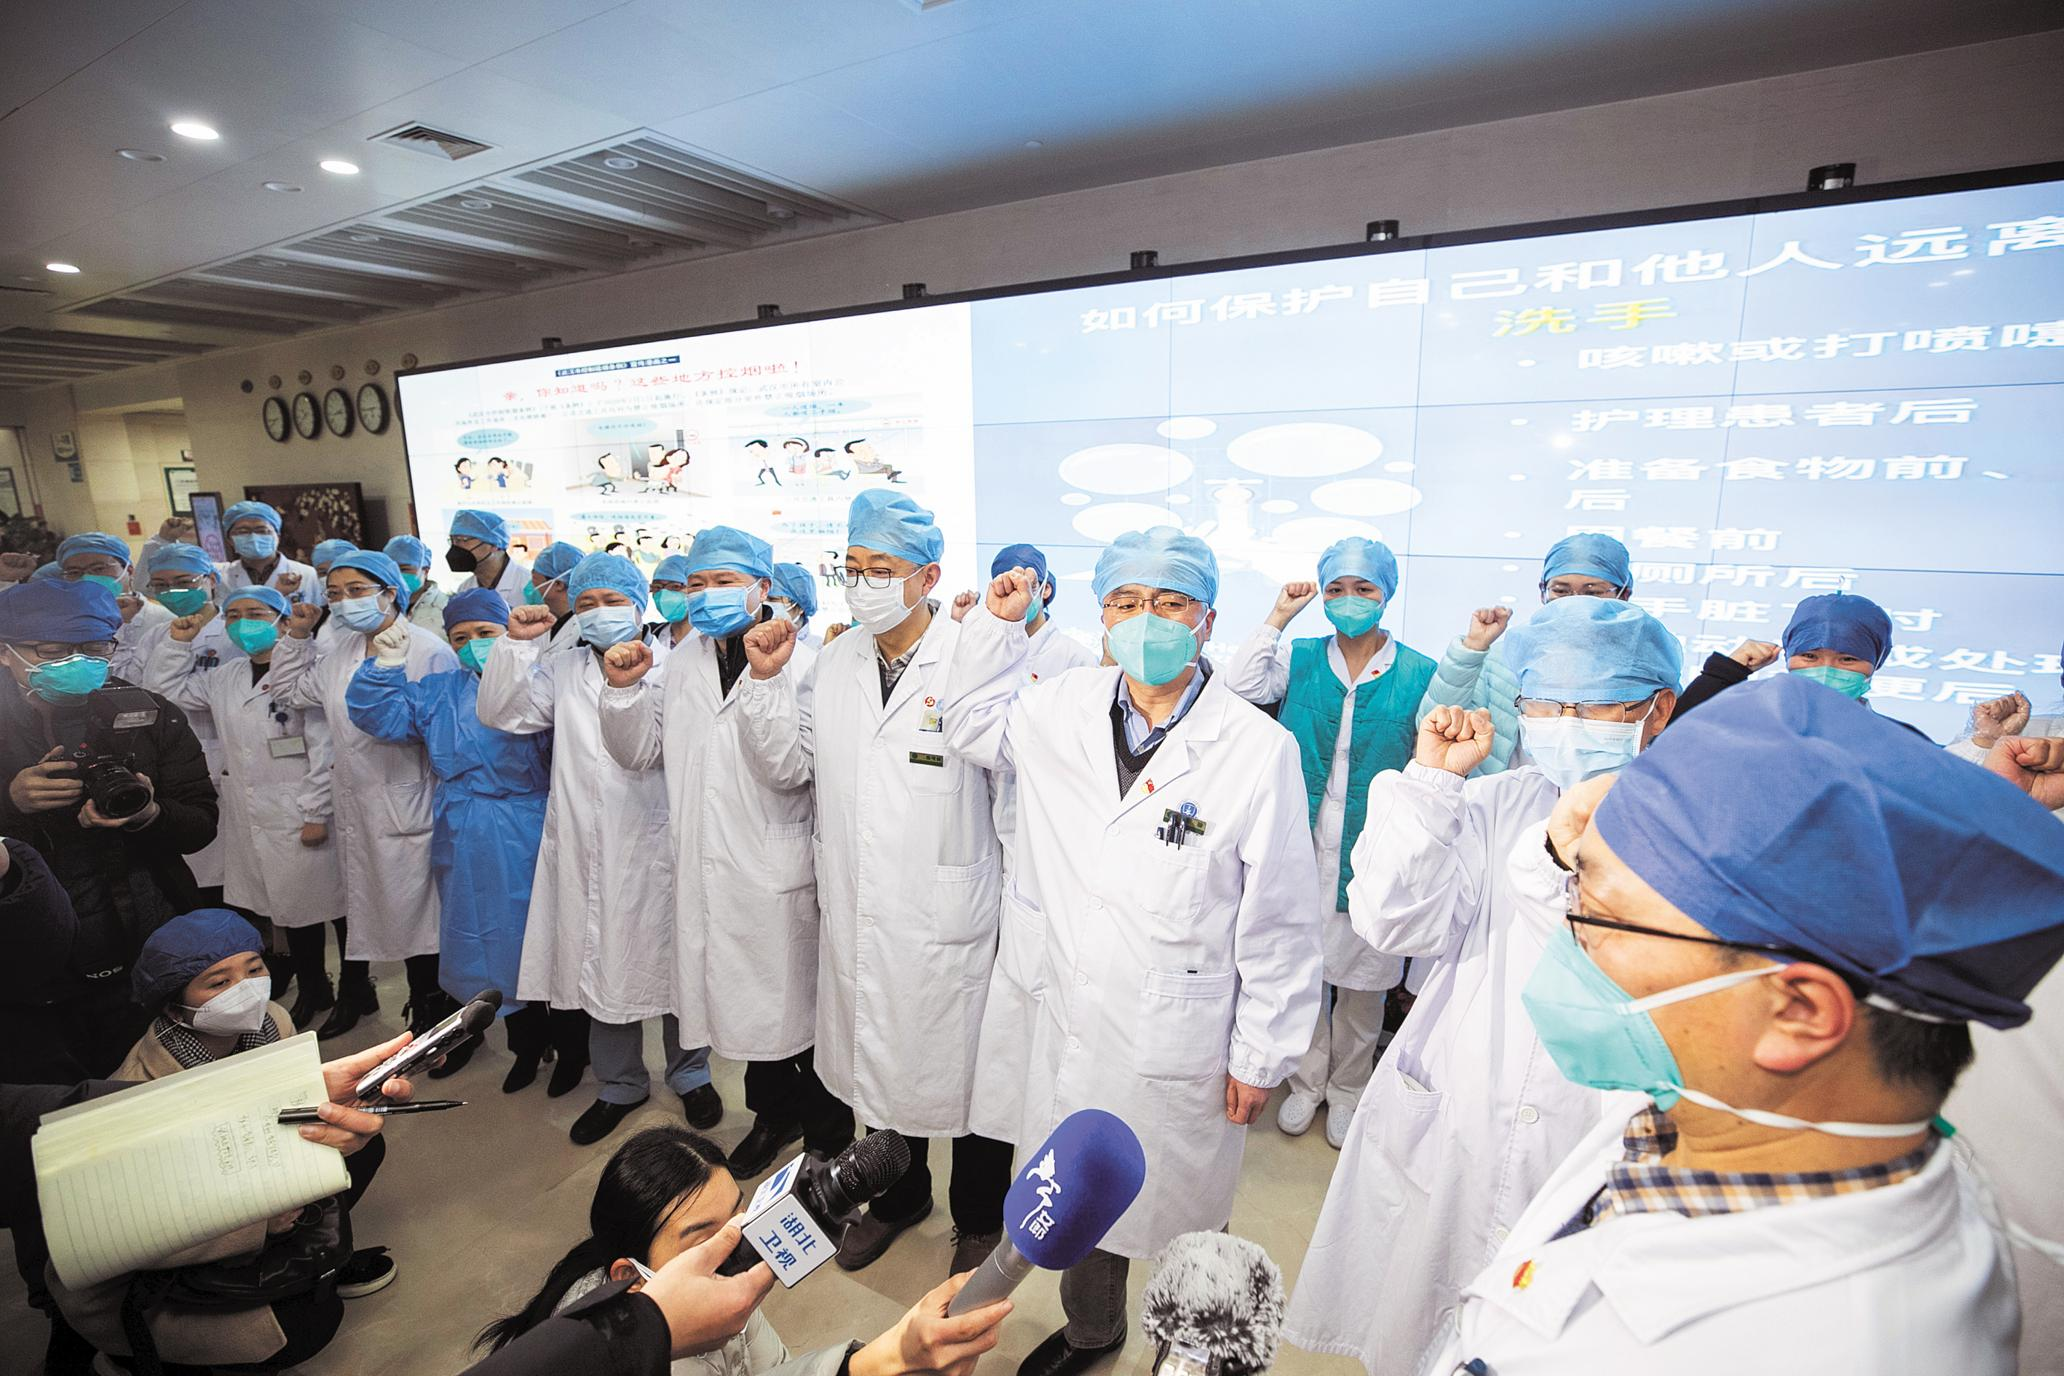rightmask: (1526, 657, 2055, 1158), (1477, 580, 1672, 822), (129, 915, 306, 1072), (1089, 524, 1229, 713), (832, 491, 949, 670), (3, 570, 140, 720), (670, 511, 776, 657), (1308, 537, 1404, 676), (567, 548, 656, 673), (315, 547, 408, 656), (432, 591, 518, 693), (215, 574, 299, 677), (445, 498, 518, 597), (143, 537, 218, 633), (229, 498, 289, 587)
